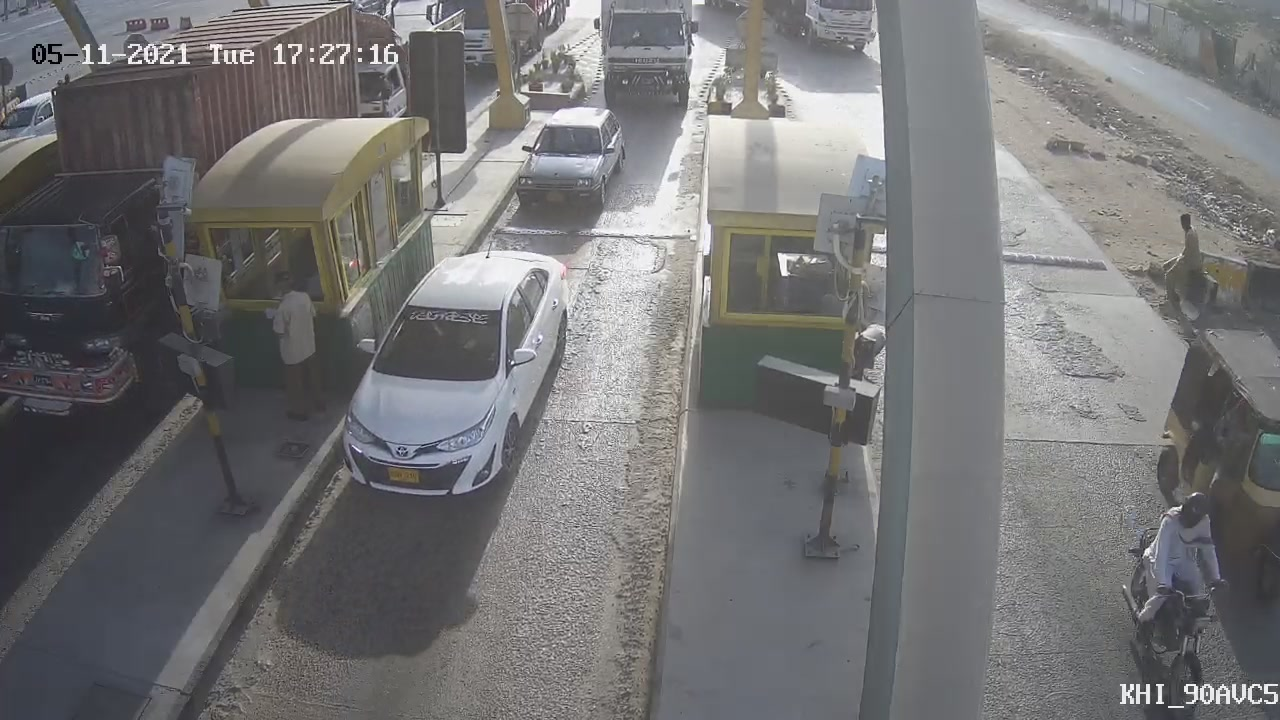F1: (314, 225, 596, 527), (499, 90, 637, 235)
